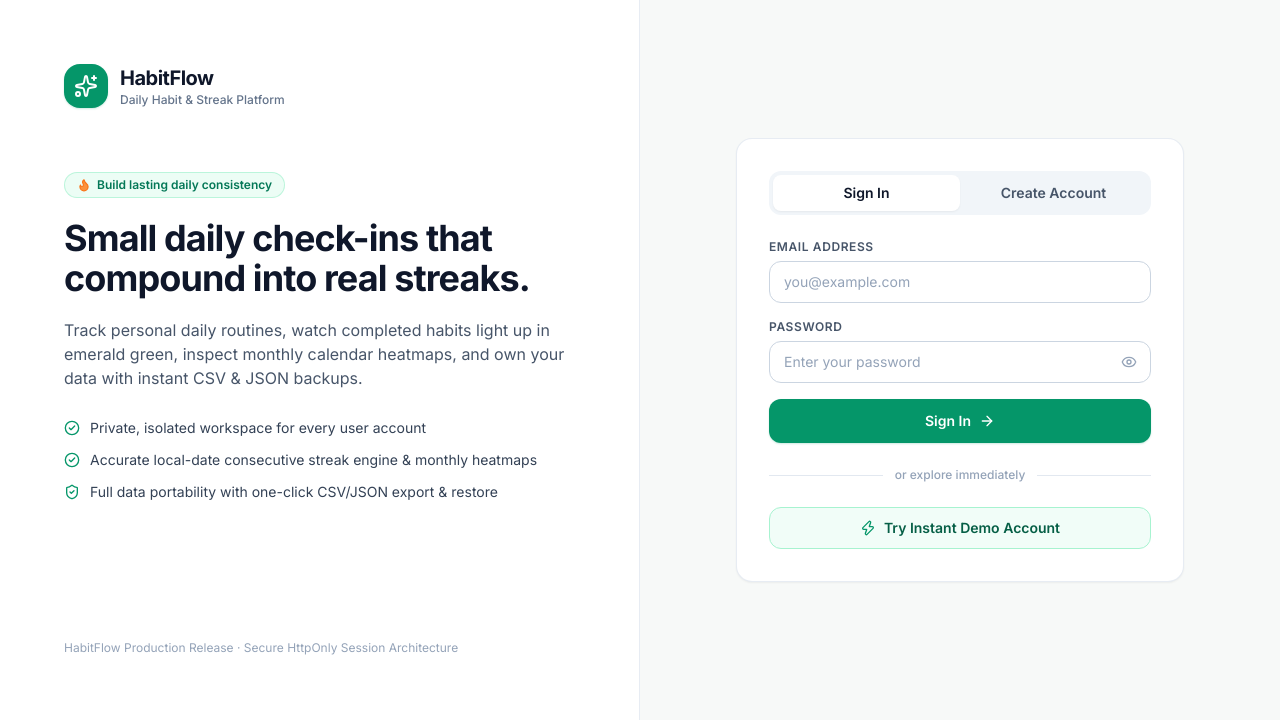
Scenario: HabitFlow v2.0 Production UI: Auth, Multi-User Dashboard, Search/Sort & Heatmap › renders AuthPage when unauthenticated and supports 1-Click Instant Demo sign-in and sign-out
Expected: the heading "Small daily check-ins that compound into real streaks." is shown, 64,218 -> 575,298
Click the button with test id "demo-login-btn": {"x": 960, "y": 528} 769,507 -> 1151,549
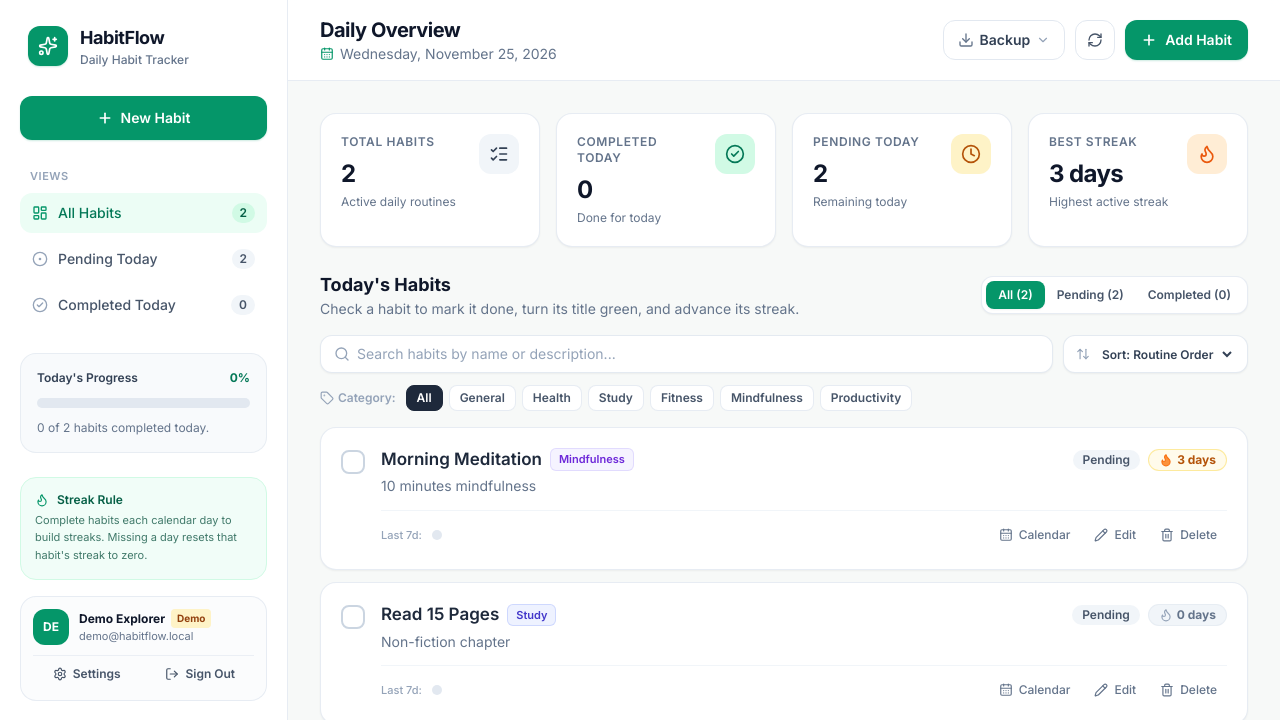
Expected: the checkbox "Morning Meditation" is shown, 381,448 -> 542,471
Expected: the text "Demo Explorer" is shown, 79,611 -> 165,627
Note: Sign out returns to AuthPage
Click the button with test id "sidebar-signout-btn": {"x": 200, "y": 674} 146,660 -> 254,688
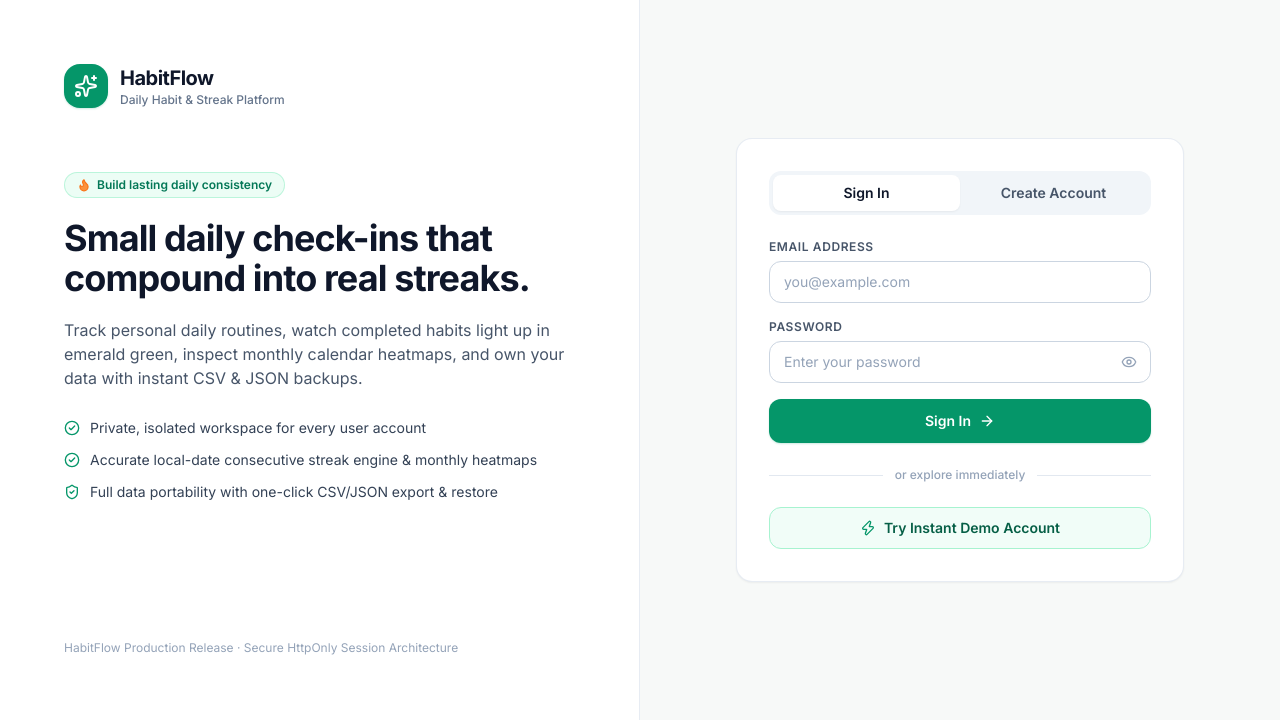
Expected: the button with test id "demo-login-btn" is shown, 769,507 -> 1151,549
